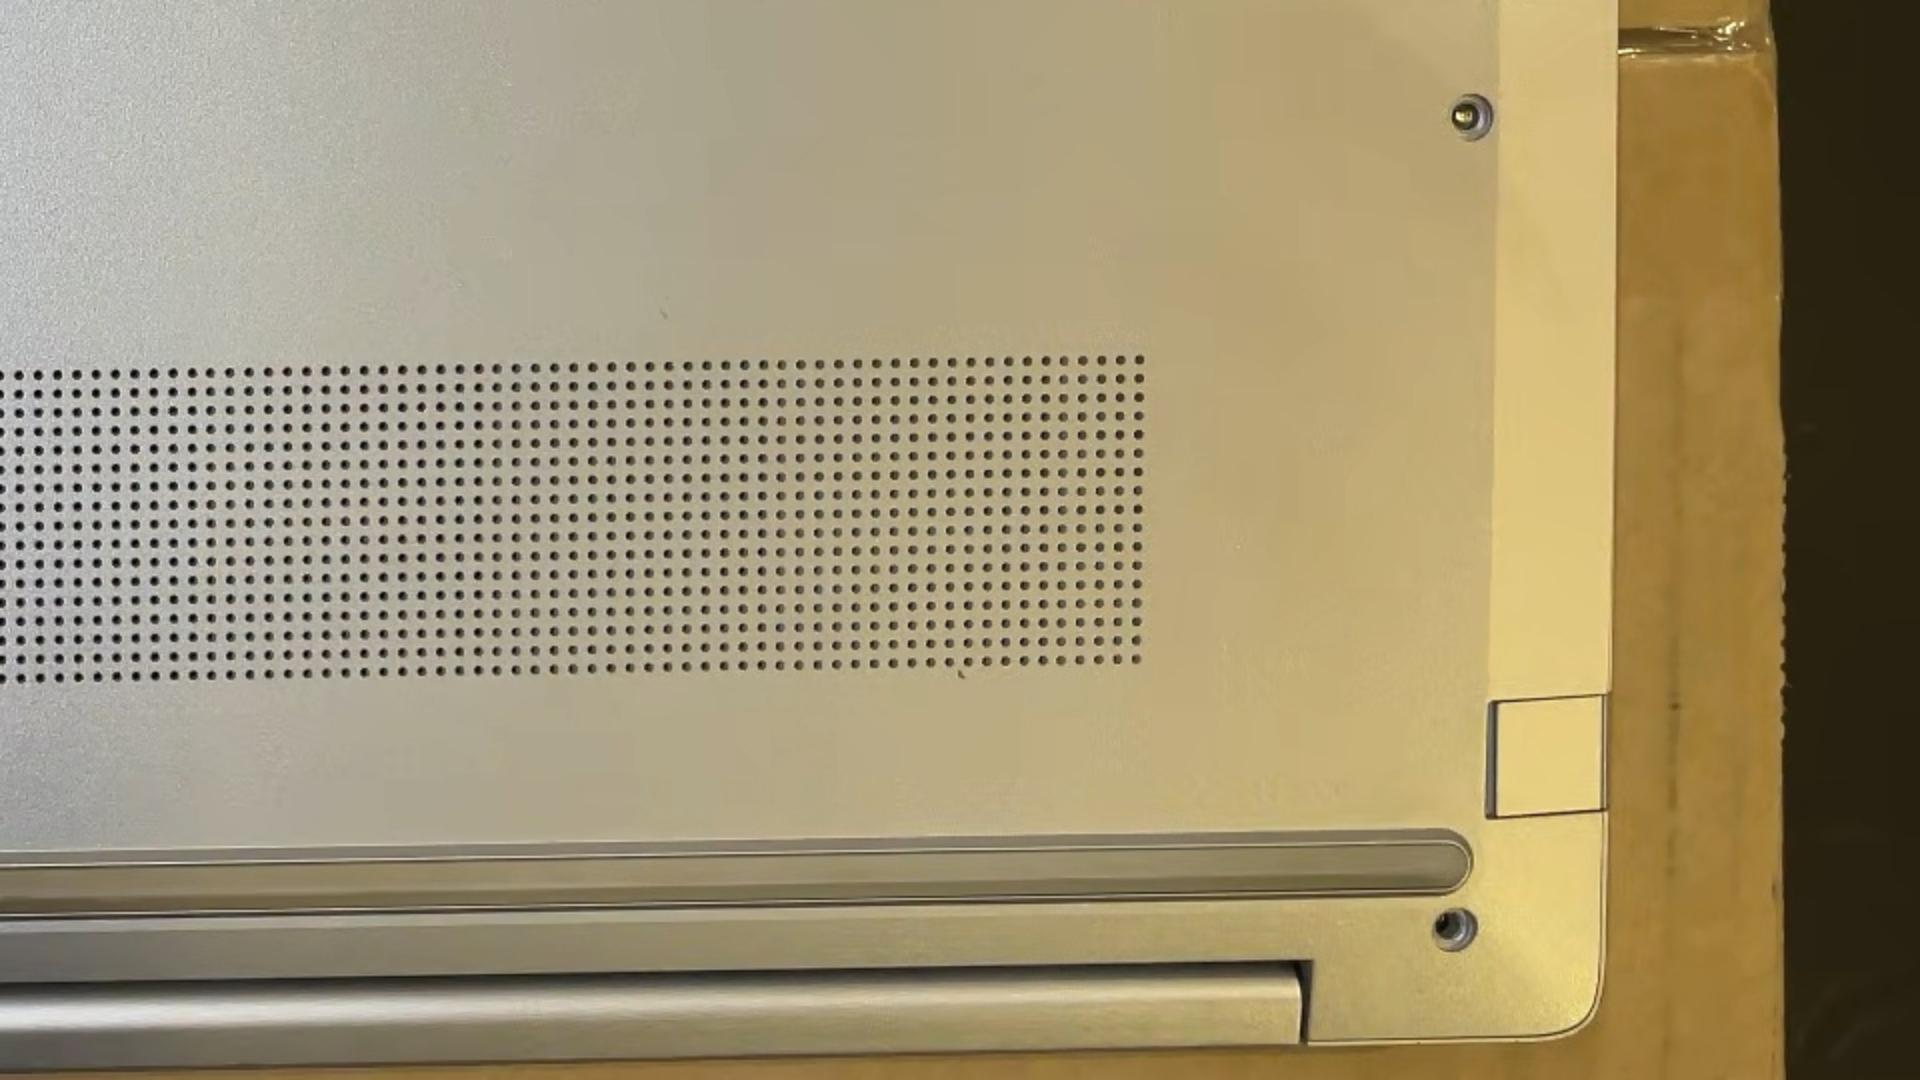chip: (951, 666, 971, 684)
